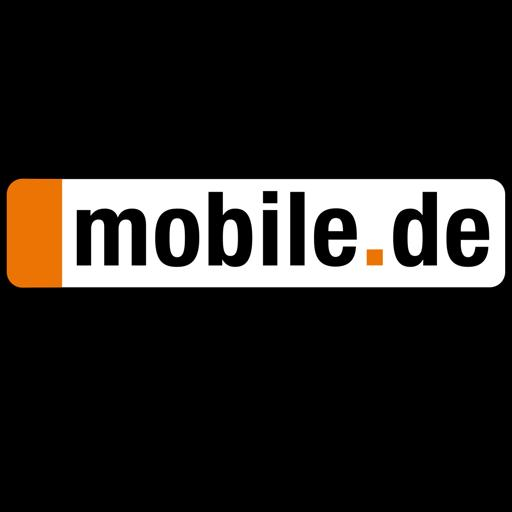Mobile-de: (0, 172, 512, 340)
